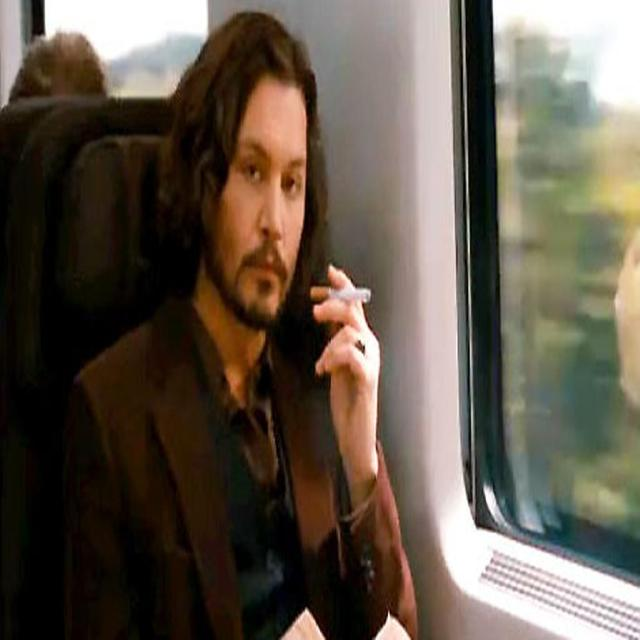smoking: (288, 224, 389, 366)
